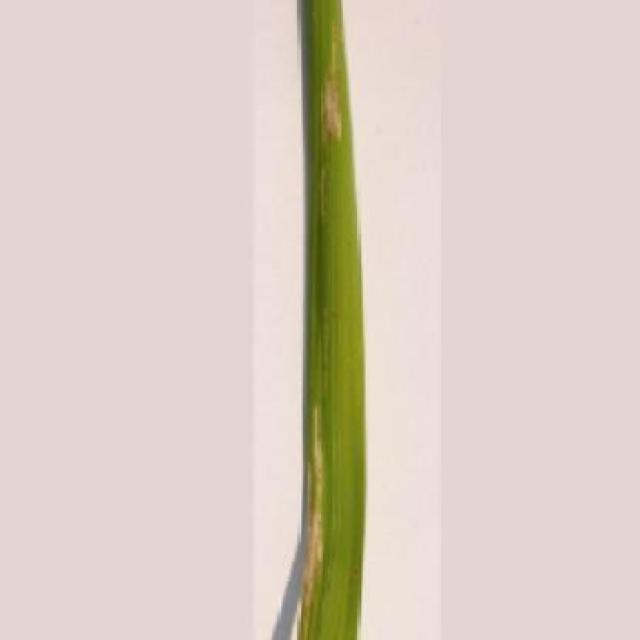Brown_Spot: (293, 0, 372, 640)
